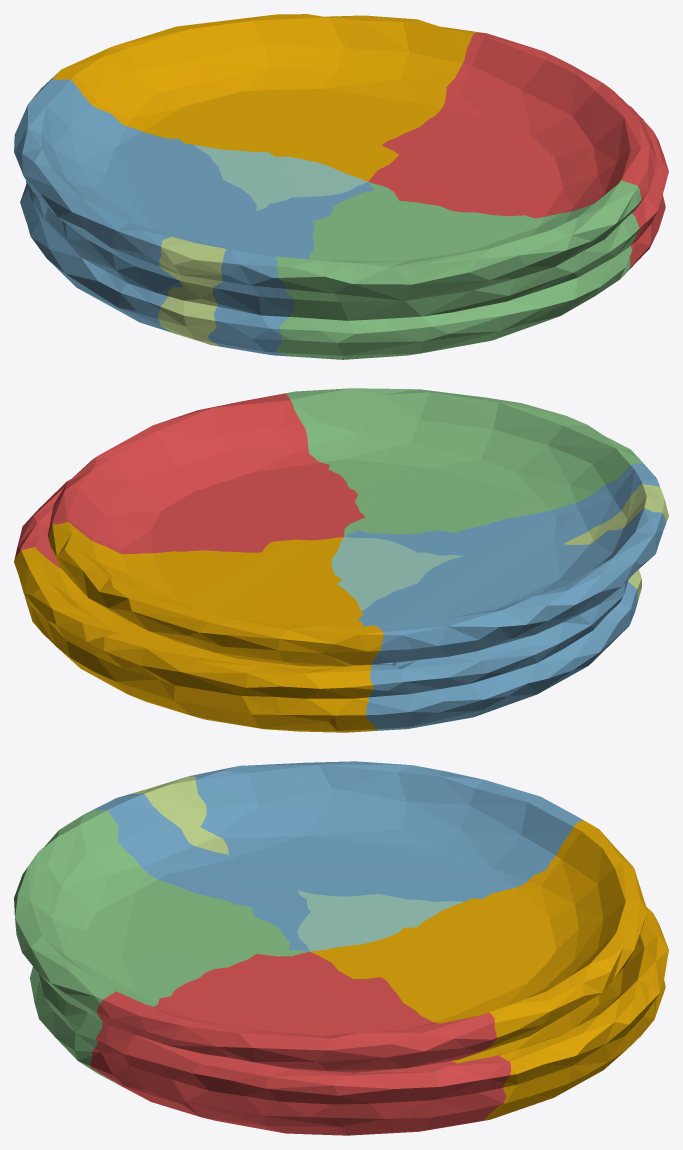
The model's file is fractured_12_6pcs.glb.
3 renders of one model, top to bottom at view 1: azimuth 30°, elevation 25°; view 2: azimuth 150°, elevation 25°; view 3: azimuth 270°, elevation 25°, orthographic. The views are drawn at different scales.
Visible parts, largest first — view 1: piece_0.obj, piece_2.obj, piece_3.obj, piece_1.obj, piece_4.obj, piece_5.obj; view 2: piece_0.obj, piece_2.obj, piece_3.obj, piece_1.obj, piece_4.obj, piece_5.obj; view 3: piece_1.obj, piece_2.obj, piece_0.obj, piece_3.obj, piece_4.obj, piece_5.obj.
Part boxes in pixels (x1=…): piece_0.obj: x1=50, y1=14, x2=482, y2=181; piece_2.obj: x1=14, y1=79, x2=374, y2=356; piece_3.obj: x1=276, y1=180, x2=641, y2=359; piece_1.obj: x1=369, y1=32, x2=668, y2=269; piece_4.obj: x1=194, y1=144, x2=367, y2=210; piece_5.obj: x1=158, y1=236, x2=225, y2=346; piece_0.obj: x1=14, y1=522, x2=383, y2=732; piece_2.obj: x1=344, y1=463, x2=666, y2=731; piece_3.obj: x1=286, y1=388, x2=643, y2=536; piece_1.obj: x1=14, y1=393, x2=365, y2=567; piece_4.obj: x1=331, y1=537, x2=463, y2=611; piece_5.obj: x1=563, y1=483, x2=668, y2=600; piece_1.obj: x1=90, y1=951, x2=510, y2=1135; piece_2.obj: x1=93, y1=761, x2=583, y2=951; piece_0.obj: x1=310, y1=820, x2=668, y2=1120; piece_3.obj: x1=14, y1=810, x2=308, y2=1084; piece_4.obj: x1=297, y1=890, x2=464, y2=951; piece_5.obj: x1=131, y1=776, x2=228, y2=854.
Size of the model in its own units: 1 by 0.233 by 0.9935.
